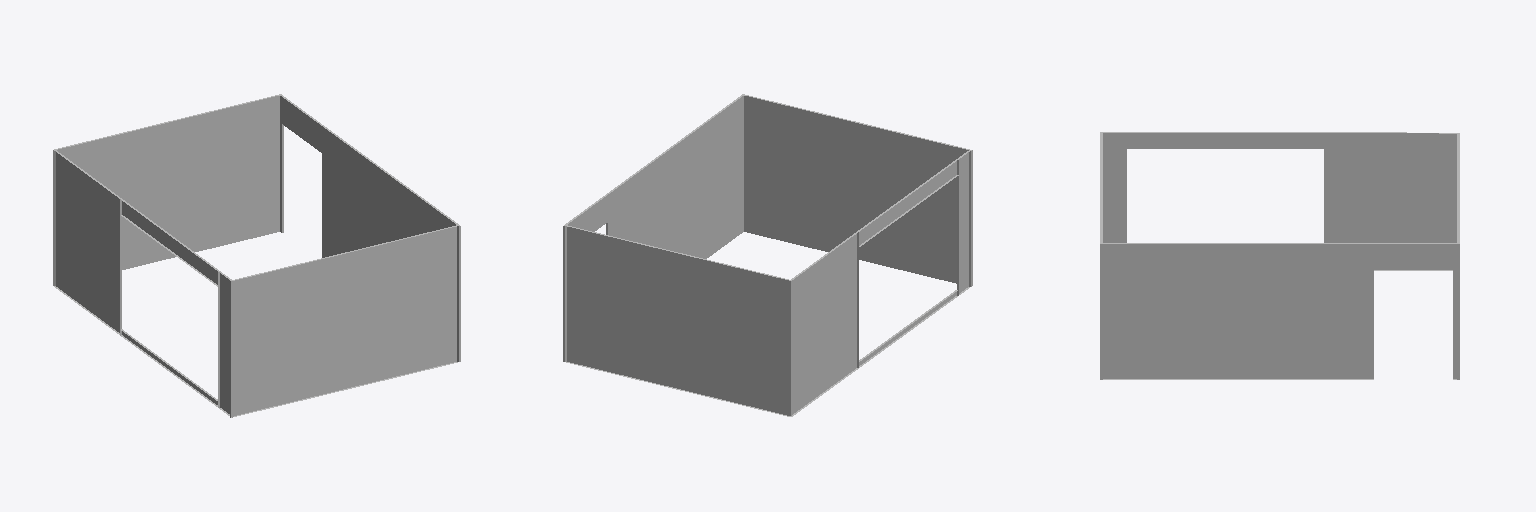
The model's file is housesp_002.obj.
3 renders of one model, left to right at view 1: azimuth 30°, elevation 25°; view 2: azimuth 150°, elevation 25°; view 3: azimuth 270°, elevation 25°, orthographic.
Bounding box in the file's own units: 440 × 250 × 597.